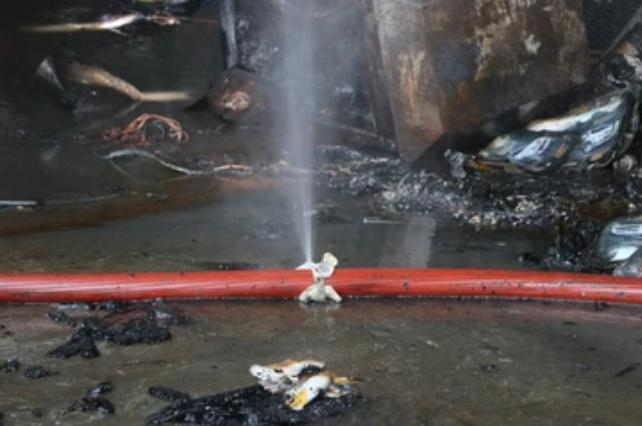pipe burst: (272, 0, 327, 267)
water accumulation: (0, 204, 642, 426)
